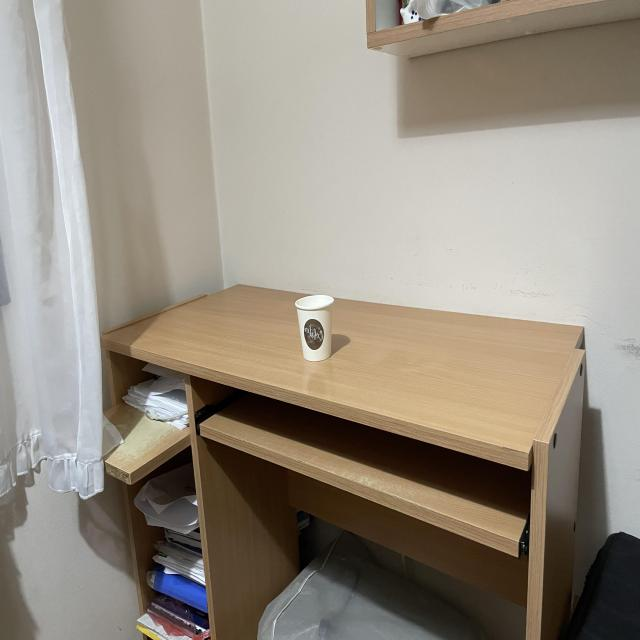small: (294, 288, 333, 362)
